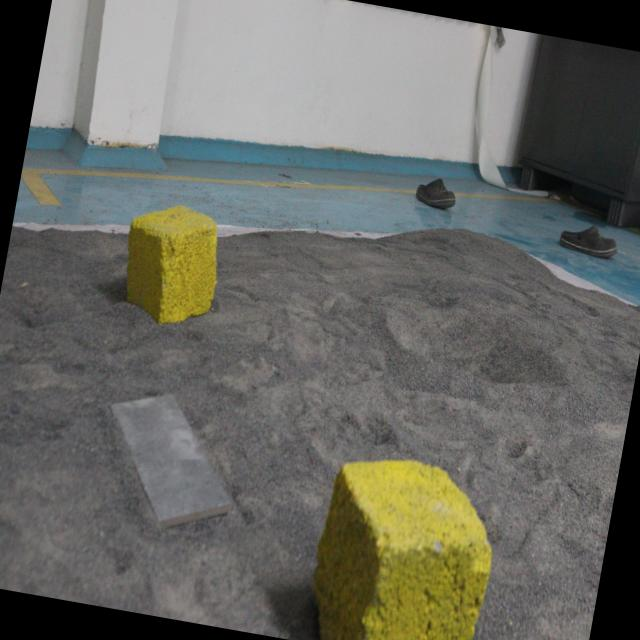box: (294, 429, 514, 640), (114, 195, 230, 342)
crater: (369, 264, 580, 409)
